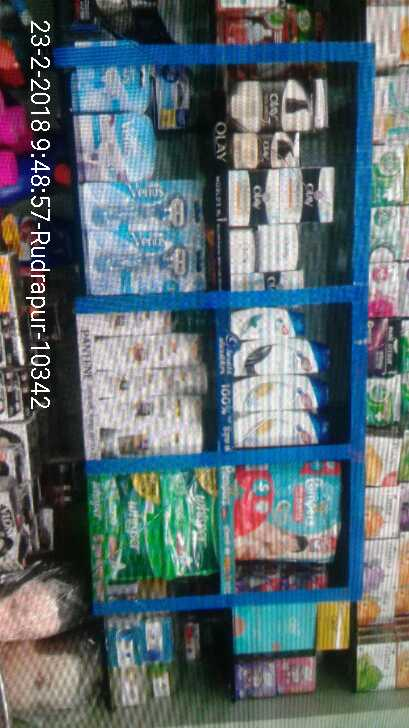venus: (81, 173, 206, 229), (81, 229, 197, 287), (81, 51, 149, 119), (81, 119, 153, 167)
